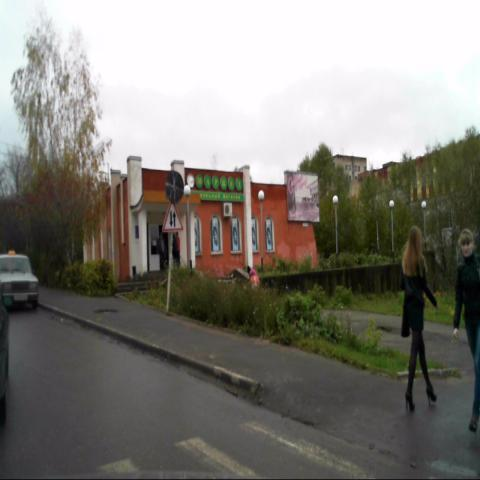1_21: (161, 200, 184, 232)
